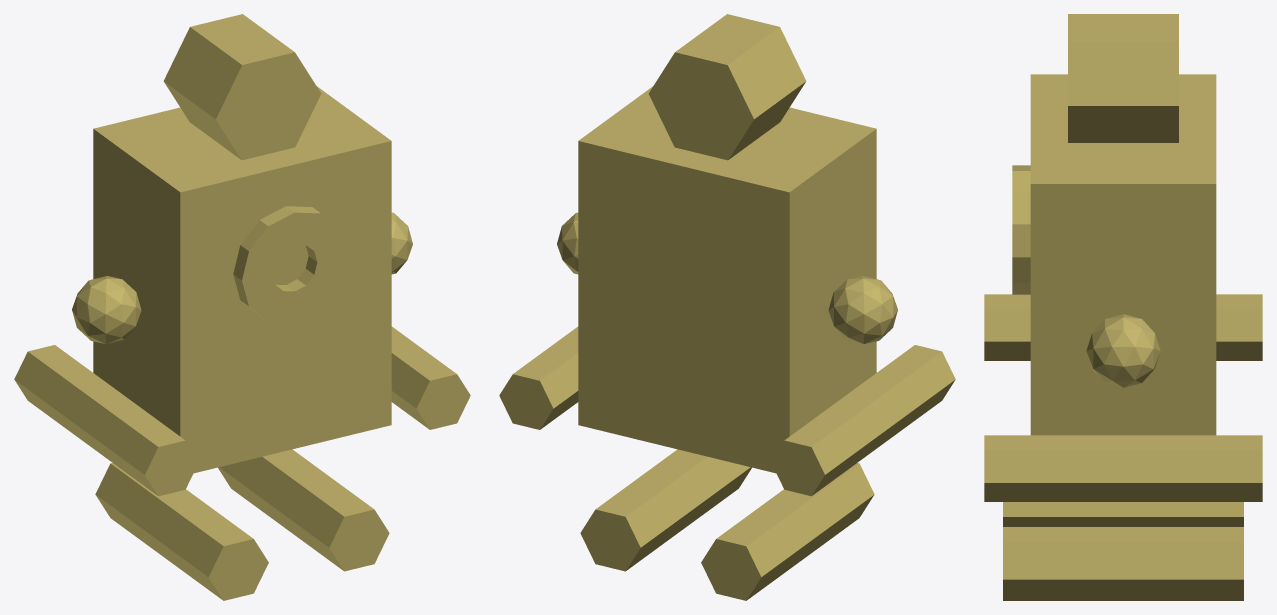
Rendered from ClockWorkTitan_A_Basic.glb.
3 views of the same model, side by side, from view 1: azimuth 30°, elevation 25°; view 2: azimuth 150°, elevation 25°; view 3: azimuth 270°, elevation 25° (orthographic). The views are drawn at different scales.
Parts seen in each view (by area): view 1: world; view 2: world; view 3: world.
Boxes of the visible parts, <box> form: world: <box>14,14,470,600</box>; world: <box>499,14,955,600</box>; world: <box>984,14,1262,600</box>.
Bounding box in the file's own units: 2.2 × 3.18 × 1.5.
